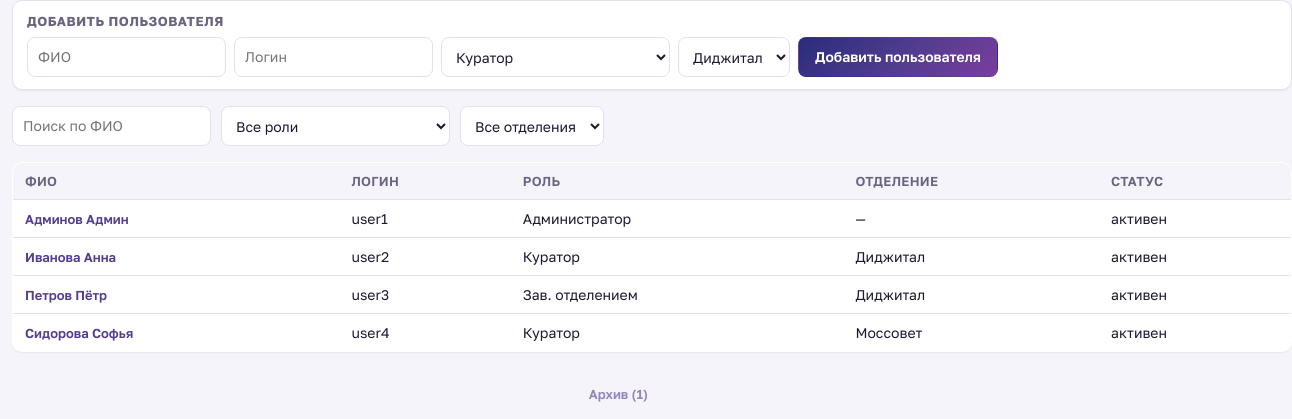
UsersTab — список › поиск по ФИО, фильтры по роли и по отделению
Expected: the link "Иванова Анна" is shown, [21,247,120,267]
Type "петров" into the field with placeholder "Поиск по ФИО".
click(112, 126); type("петров")  # box [12,106,211,146]
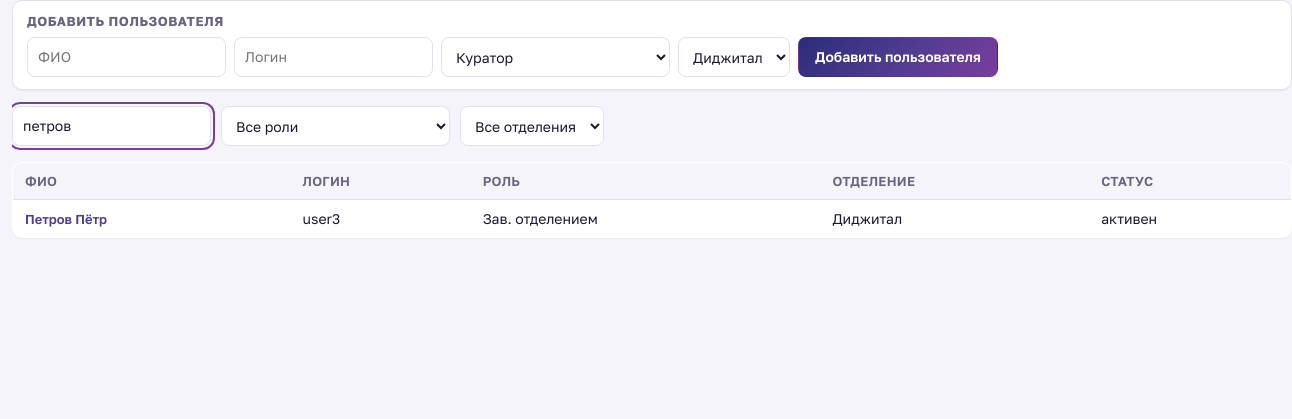
Expected: the link "Петров Пётр" is shown, [21,209,111,229]
Now the link "Иванова Анна" is gone
Clear the field with placeholder "Поиск по ФИО" at (112, 126), box [12,106,211,146]
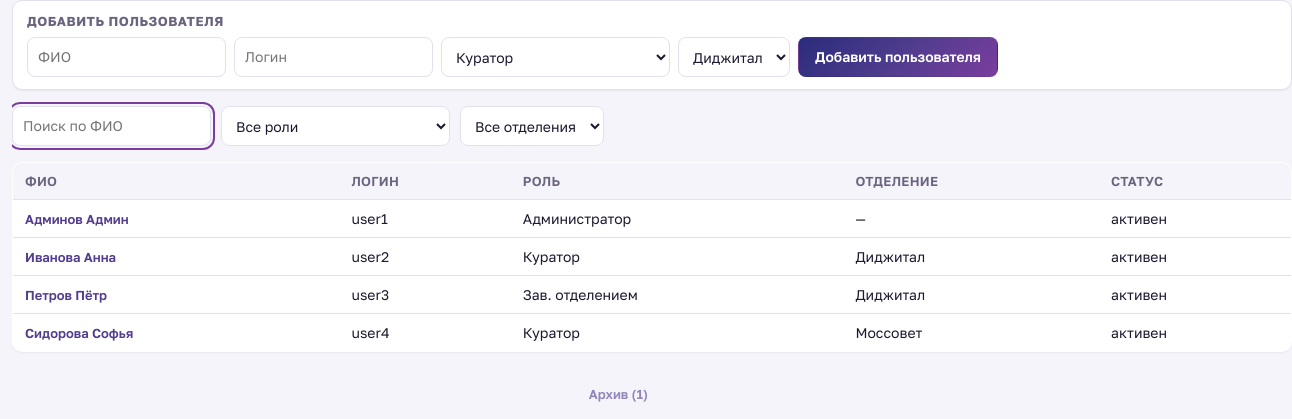
Select "Зав. отделением" in the dropdown named "Фильтр по роли" at (336, 126), box [221,106,450,146]
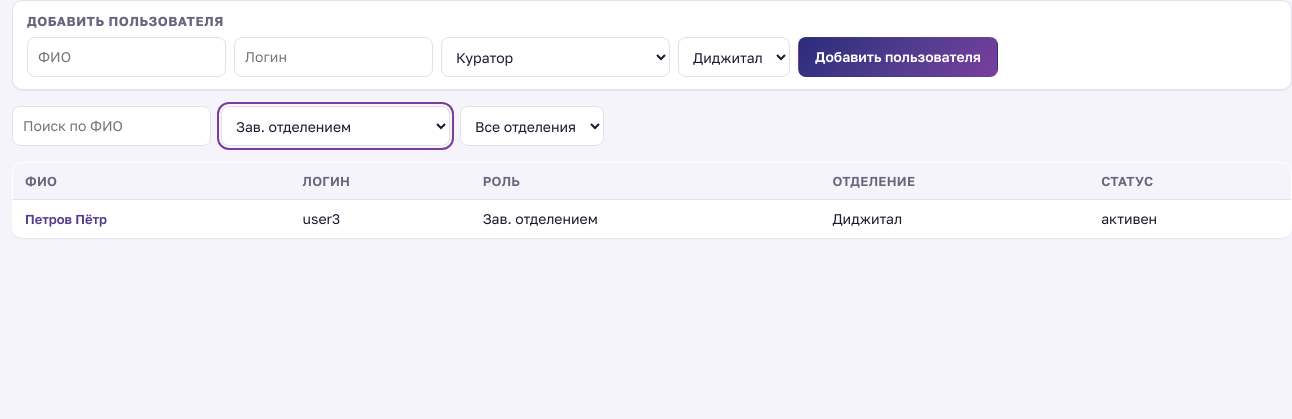
Expected: the link "Петров Пётр" is shown, [21,209,111,229]
Now the link "Иванова Анна" is gone
Select "Все роли" in the dropdown named "Фильтр по роли" at (336, 126), box [221,106,450,146]
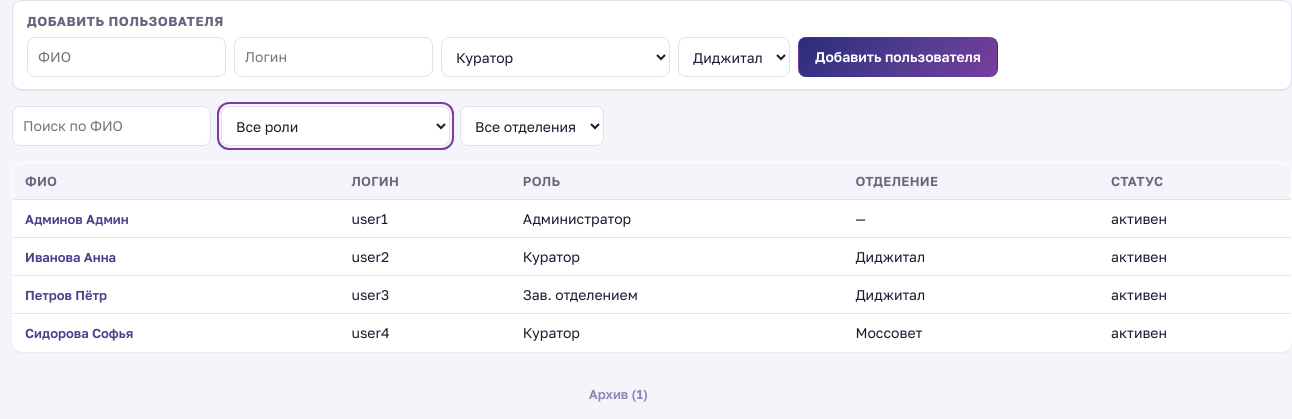
Select "Моссовет" in the dropdown named "Фильтр по отделению" at (532, 126), box [460,106,604,146]
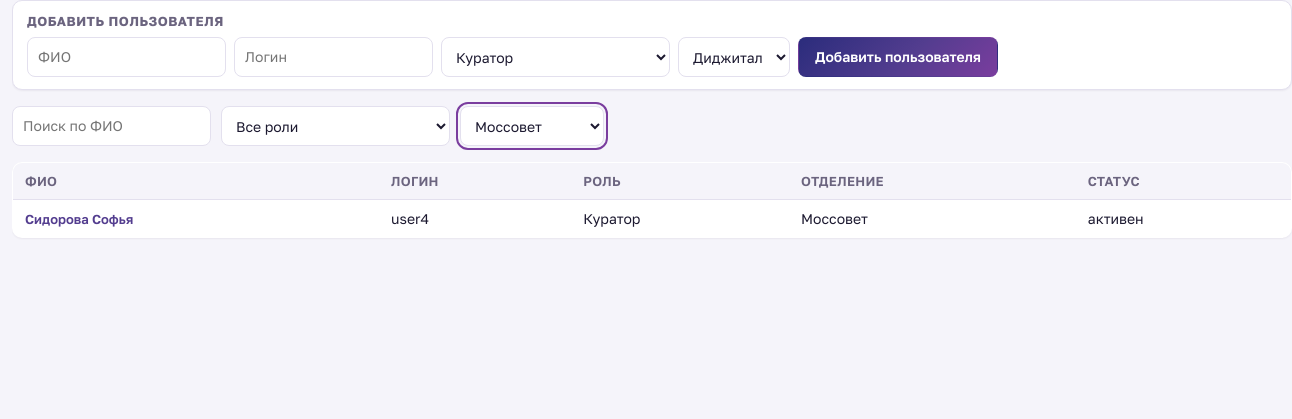
Now the link "Сидорова Софья" is shown, box [21,209,137,229]
Now the link "Иванова Анна" is gone
